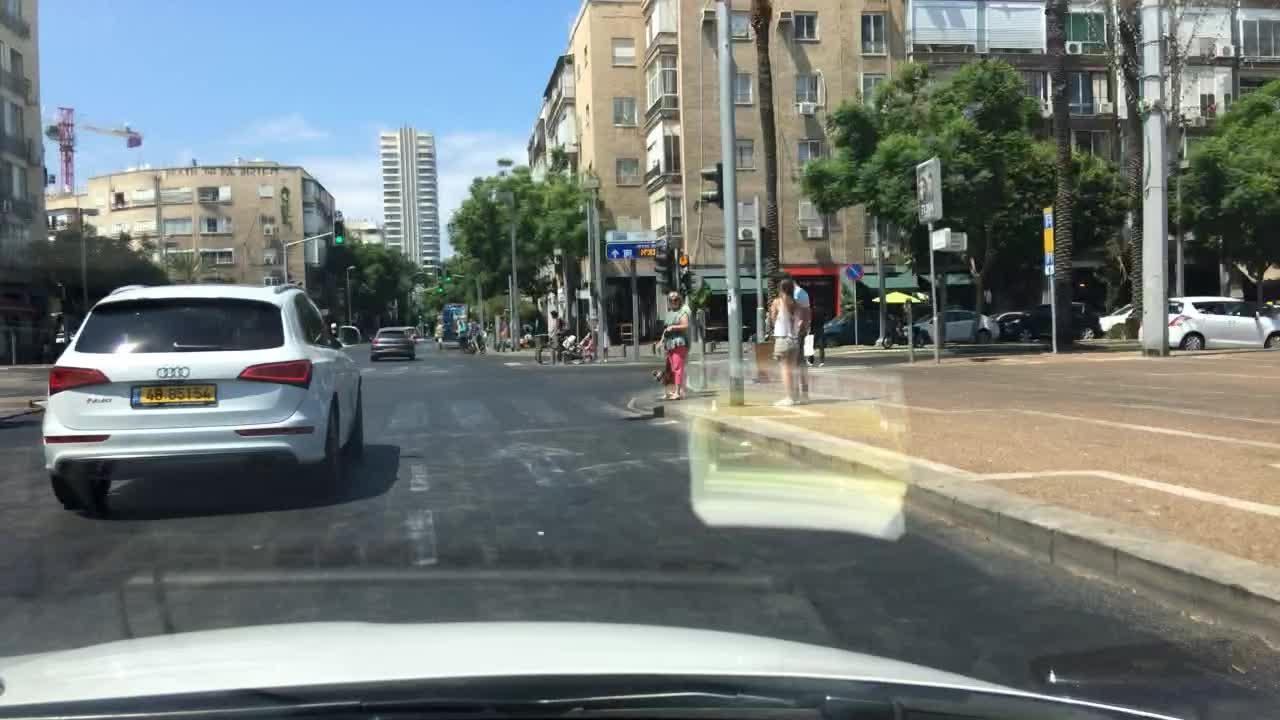Audi: (152, 363, 194, 383)
